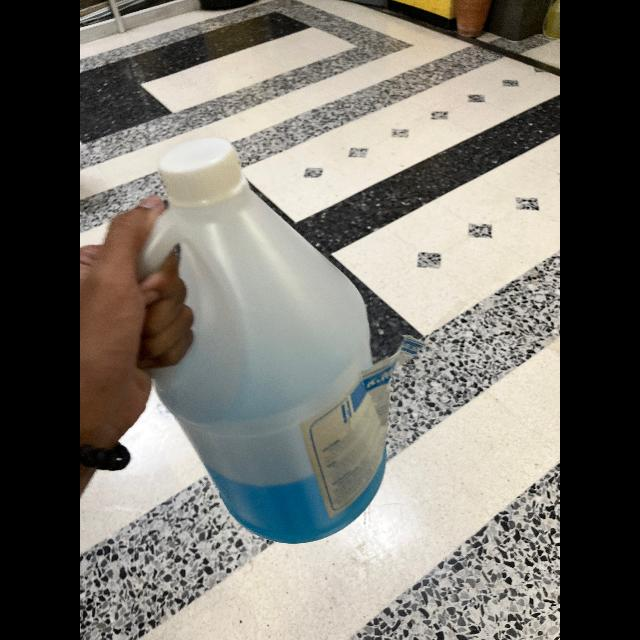chemical_plastic_gallon: (130, 131, 388, 551)
